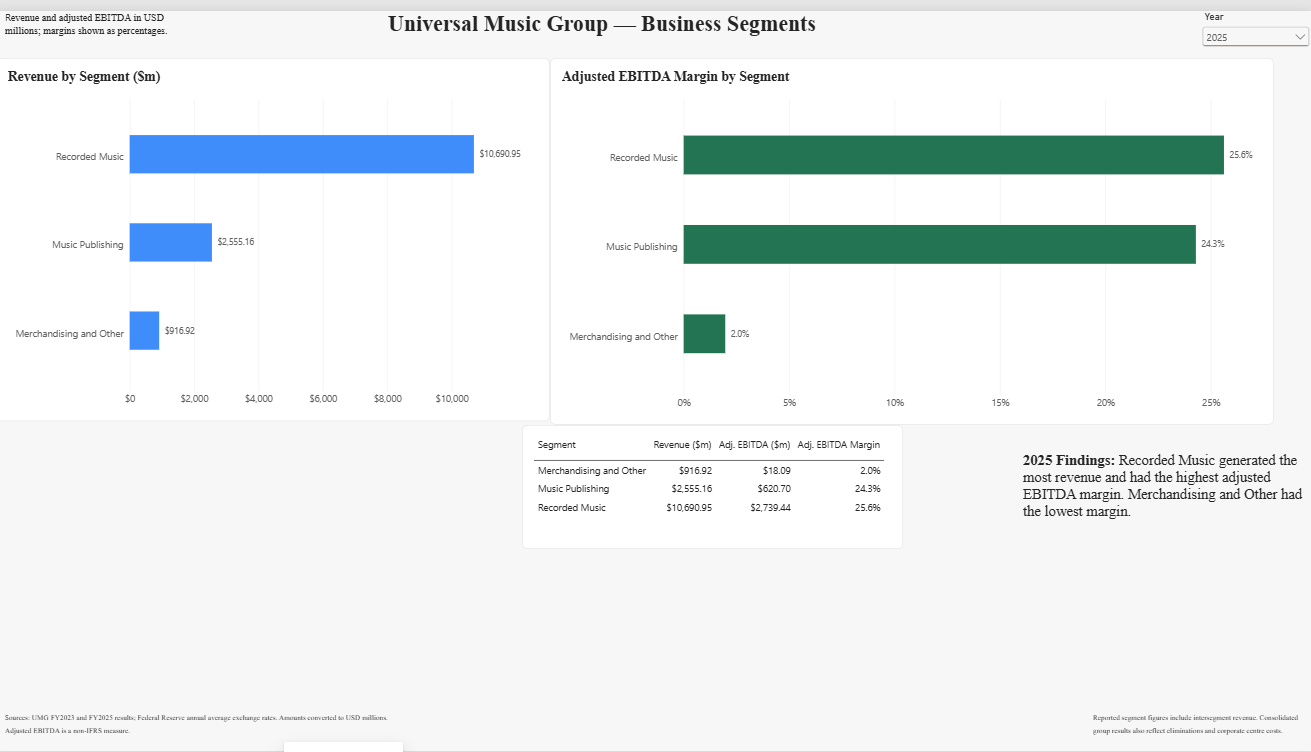

The page's visual inventory and layout, read from the dashboard file:
{"tool":"powerbi","page":{"name":"Business Segments.","canvas":[1920,1080],"ordinal":1},"visuals":[{"type":"textbox","box":[571.8,0,632,72.2],"z":0},{"type":"textbox","box":[13.1,0,250.9,68.6],"z":1},{"type":"slicer","fields":{"Values":["UMG_Segments.Year"]},"box":[1754.5,0,165.5,138.4],"z":2},{"type":"clusteredBarChart","title":"Revenue by Segment ($m)","fields":{"Category":["UMG_Segments.Segment"],"Y":["UMG_Segments.Segment Revenue USD"]},"box":[0,68.6,808.3,529.6],"z":3},{"type":"clusteredBarChart","title":"Adjusted EBITDA Margin by Segment","fields":{"Category":["UMG_Segments.Segment"],"Y":["UMG_Segments.Segment Adj EBITDA Margin"]},"box":[808.3,68.6,1056.3,535.4],"z":4},{"type":"tableEx","fields":{"Values":["UMG_Segments.Segment","UMG_Segments.Segment Revenue USD","UMG_Segments.Segment Adjusted EBITDA USD","UMG_Segments.Segment Adj EBITDA Margin"]},"box":[767.4,604,542.7,180.9],"z":5},{"type":"textbox","box":[1498.7,644,421.3,105.3],"z":6},{"type":"textbox","box":[13.1,1019.8,558.8,61.3],"z":7},{"type":"textbox","box":[572,644,195,283],"z":8},{"type":"textbox","box":[1601,1020.2,319,60.2],"z":9}]}

Visuals, with their boxes in screenshot pixels (x1, y1, x2, y2), scaled from the page's 1920x1080 canvas onto the 1311x752 screenshot:
textbox: BBox(390, 0, 822, 50)
textbox: BBox(9, 0, 180, 48)
slicer - UMG_Segments.Year: BBox(1198, 0, 1310, 96)
"Revenue by Segment ($m)" clusteredBarChart: BBox(0, 48, 552, 417)
"Adjusted EBITDA Margin by Segment" clusteredBarChart: BBox(552, 48, 1273, 421)
tableEx - UMG_Segments.Segment x UMG_Segments.Segment Revenue USD: BBox(524, 421, 895, 547)
textbox: BBox(1023, 448, 1310, 522)
textbox: BBox(9, 710, 391, 751)
textbox: BBox(391, 448, 524, 645)
textbox: BBox(1093, 710, 1310, 751)
